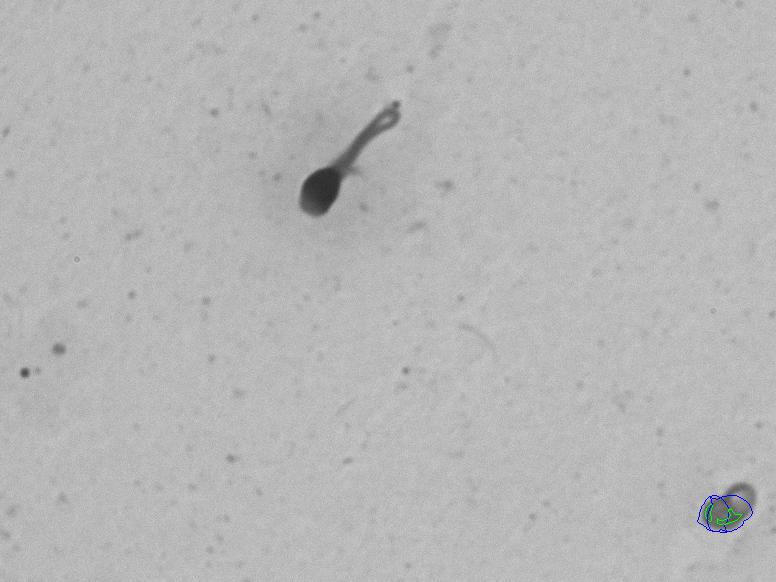Abnormal: (209, 102, 438, 261)
